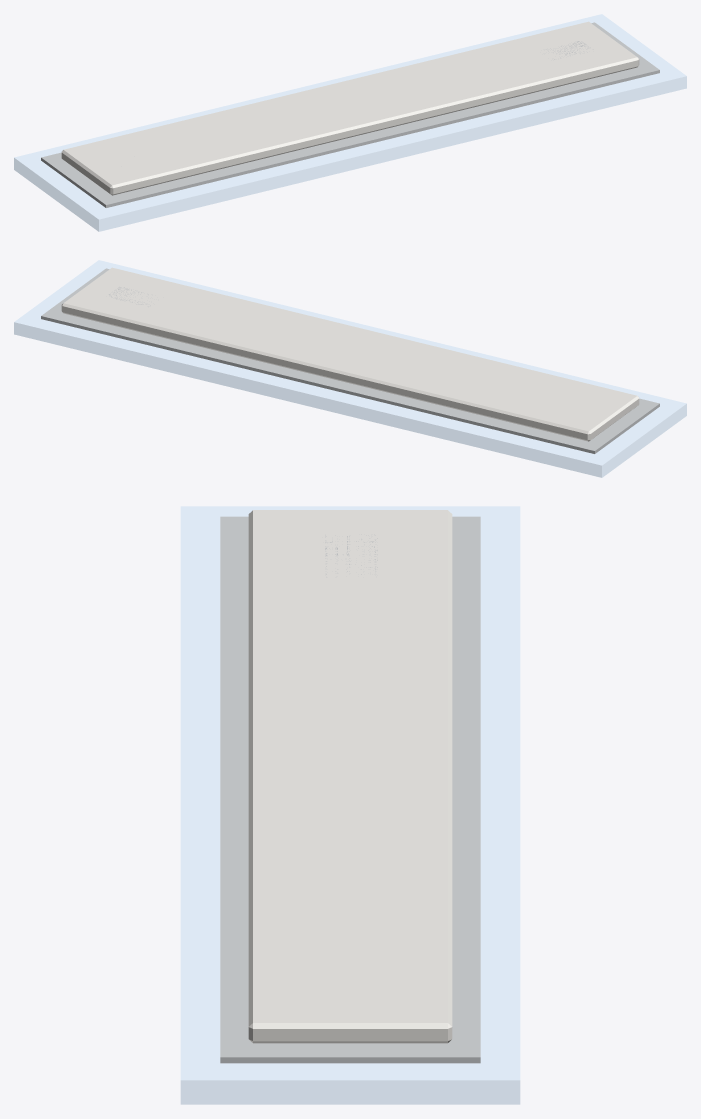
The model's file is SC_Fix_Ceiling_Light_Panel.gltf.
3 views of the same model, one above another, from view 1: azimuth 30°, elevation 25°; view 2: azimuth 150°, elevation 25°; view 3: azimuth 270°, elevation 25° (orthographic). The views are drawn at different scales.
Visible parts, largest first — view 1: SC_Fix_Ceiling_Light_Panel; view 2: SC_Fix_Ceiling_Light_Panel; view 3: SC_Fix_Ceiling_Light_Panel.
Boxes of the visible parts, <box> form: SC_Fix_Ceiling_Light_Panel: <box>14,14,686,231</box>; SC_Fix_Ceiling_Light_Panel: <box>14,260,686,477</box>; SC_Fix_Ceiling_Light_Panel: <box>180,506,520,1104</box>.
Size of the model in its own units: 1.2 by 0.05 by 0.3.
2 materials, 2 textured.
